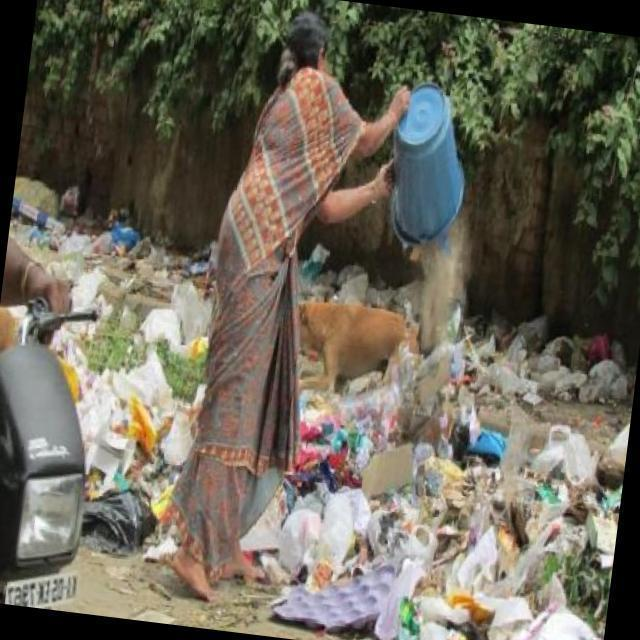Plastic_Bag: (277, 488, 356, 582)
